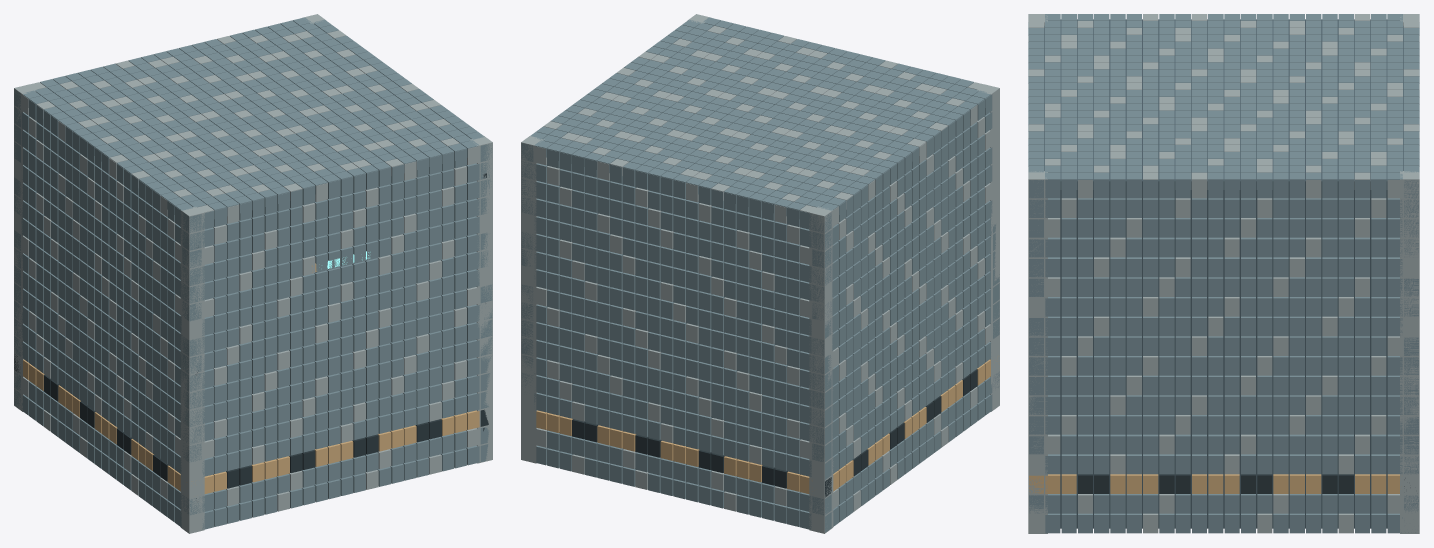
Rendered from FoundryCargo.fbx.
3 views of the same model, side by side, from view 1: azimuth 30°, elevation 25°; view 2: azimuth 150°, elevation 25°; view 3: azimuth 270°, elevation 25° (orthographic). The views are drawn at different scales.
Visible parts, largest first — view 1: FoundryCargo; view 2: FoundryCargo; view 3: FoundryCargo.
Part boxes in pixels (x1=…): FoundryCargo: x1=14, y1=14, x2=492, y2=533; FoundryCargo: x1=521, y1=14, x2=999, y2=533; FoundryCargo: x1=1028, y1=14, x2=1419, y2=533.
Bounding box in the file's own units: 1 × 1 × 1.
